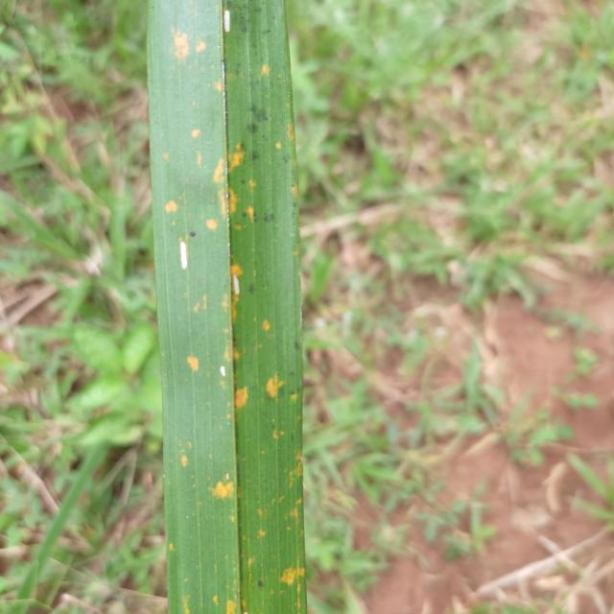Kalium: (144, 0, 307, 614)
